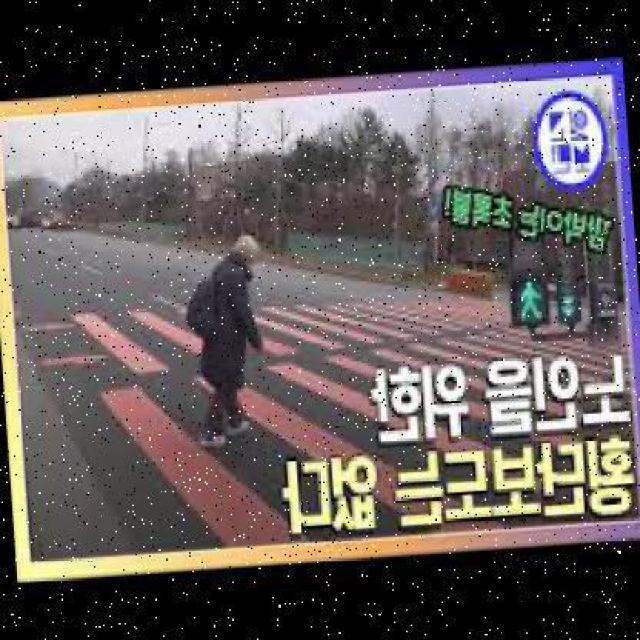Person: (183, 230, 274, 447)
